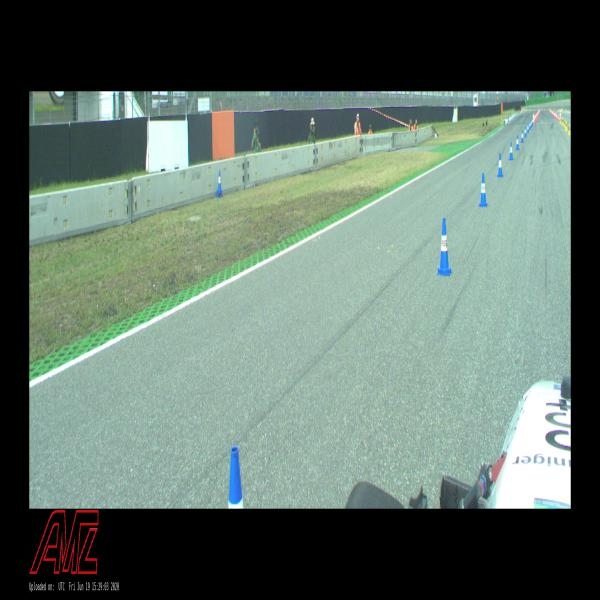blue_cone: (228, 446, 244, 508), (437, 218, 452, 276), (479, 173, 488, 207), (497, 153, 503, 177), (217, 170, 222, 193), (509, 142, 513, 160), (516, 135, 519, 150), (524, 126, 527, 137), (521, 130, 523, 143), (527, 123, 529, 133), (529, 121, 531, 130), (530, 120, 532, 127)
yellow_cone: (568, 123, 571, 135), (565, 121, 568, 131), (564, 119, 566, 128), (562, 117, 564, 126), (560, 117, 562, 123)
